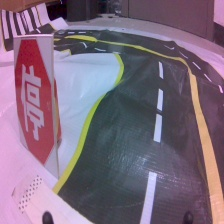stop: (12, 33, 61, 175)
